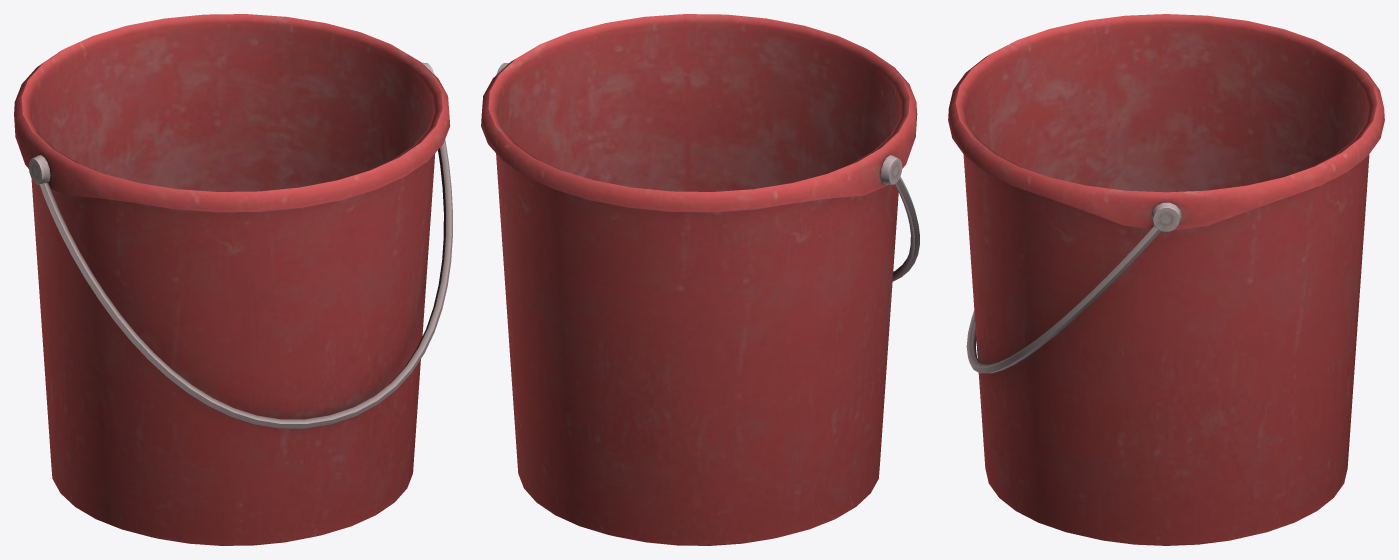
The model's file is bucket.glb.
The picture shows the model from 3 angles, left to right: view 1: azimuth 30°, elevation 25°; view 2: azimuth 150°, elevation 25°; view 3: azimuth 270°, elevation 25°; orthographic projection.
Parts seen in each view (by area): view 1: Plastic_Bucket; view 2: Plastic_Bucket; view 3: Plastic_Bucket.
Part boxes in pixels (left/top/right/bottom): Plastic_Bucket: left=14, top=14, right=452, bottom=545; Plastic_Bucket: left=481, top=14, right=919, bottom=545; Plastic_Bucket: left=948, top=14, right=1384, bottom=545.
Bounding box in the file's own units: 0.4719 × 0.4283 × 0.4543.
Materials: 1 (1 with a texture image).
